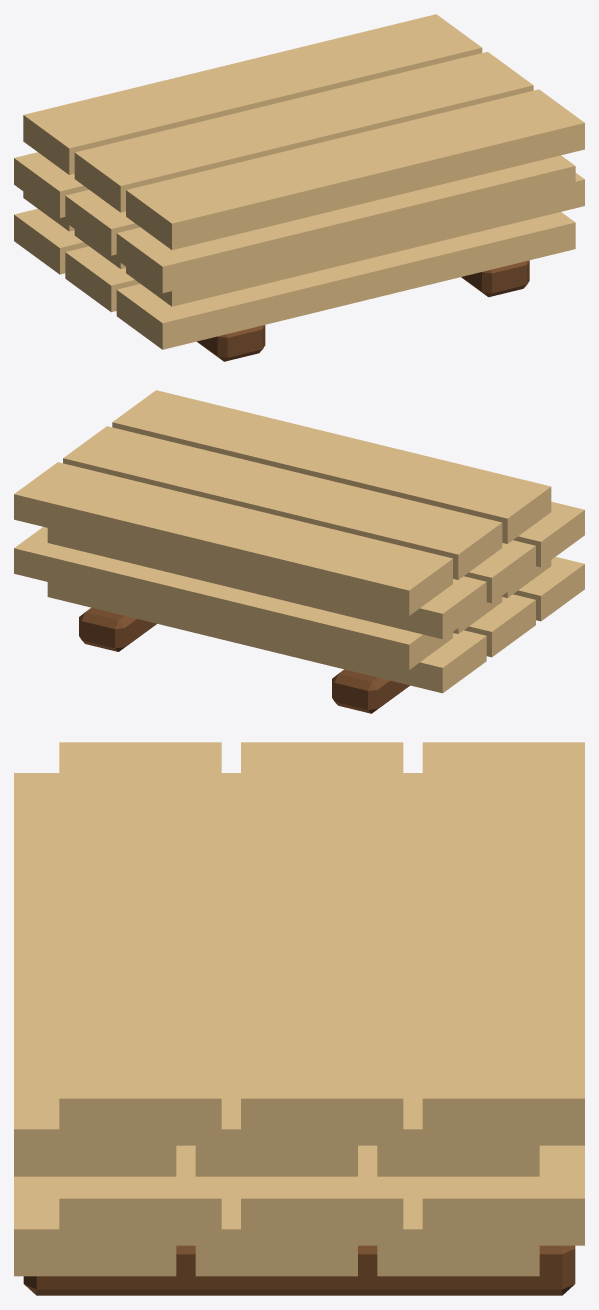
Rendered from prop_planks_m.fbx.
The picture shows the model from 3 angles, top to bottom: view 1: azimuth 30°, elevation 25°; view 2: azimuth 150°, elevation 25°; view 3: azimuth 270°, elevation 25°; orthographic projection. The views are drawn at different scales.
Visible parts, largest first — view 1: prop_planks_m; view 2: prop_planks_m; view 3: prop_planks_m.
Boxes of the visible parts, <box> form: prop_planks_m: <box>14,14,584,361</box>; prop_planks_m: <box>14,390,584,713</box>; prop_planks_m: <box>14,742,584,1295</box>.
Size of the model in its own units: 0.3288 by 0.1044 by 0.2112.
